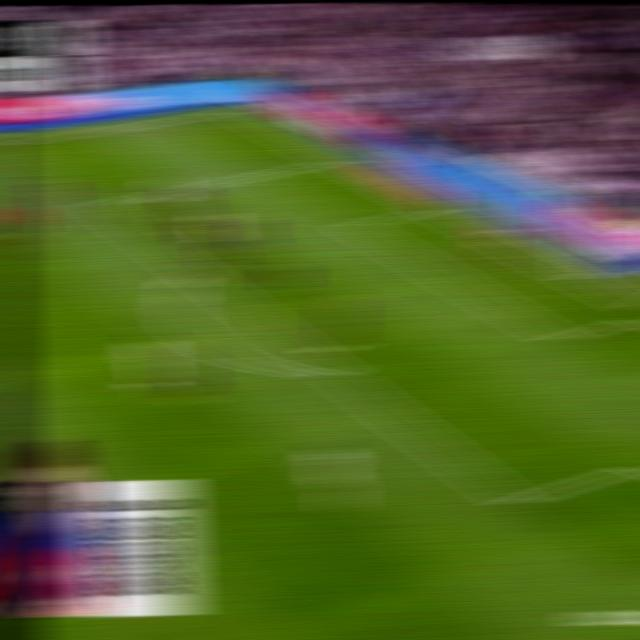bigarea_bottom_inner: (497, 484, 534, 518)
bigarea_top_inner: (83, 192, 115, 215)
bottom_arc_area_intersection: (322, 364, 353, 382)
corner: (219, 102, 250, 116)
smallarea_bottom_inner: (545, 326, 576, 350)
smallarea_top_inner: (342, 218, 370, 234)
top_arc_area_intersection: (179, 262, 211, 282)
